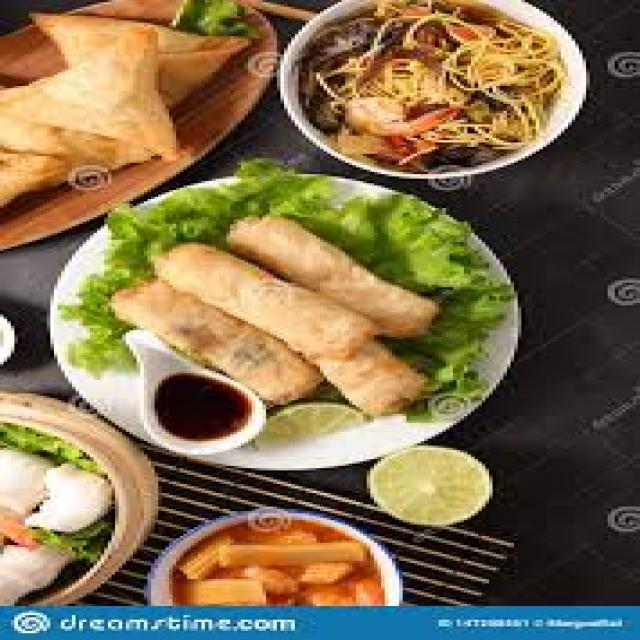Samosa: (0, 10, 265, 203)
Spring Rolls: (100, 208, 463, 416)
